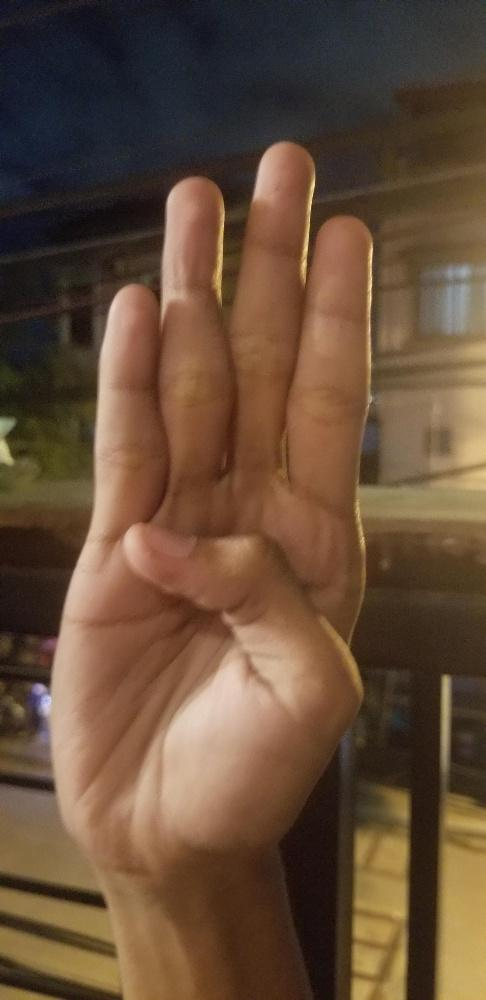b: (43, 135, 376, 865)
